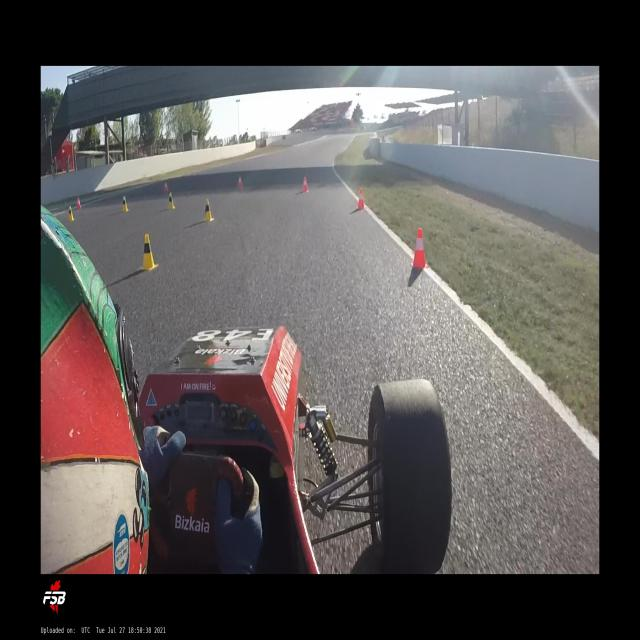orange_cone: (409, 228, 428, 268), (356, 187, 365, 210), (300, 176, 308, 193), (238, 175, 244, 189), (76, 197, 82, 209), (164, 182, 169, 194)
yellow_cone: (138, 233, 158, 270), (203, 198, 215, 222), (168, 192, 176, 210), (122, 196, 129, 212), (68, 206, 75, 221)
